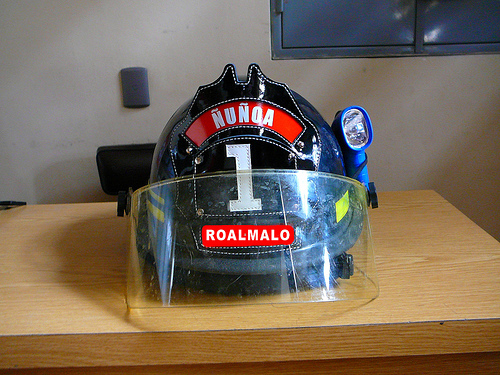helmet: (137, 78, 376, 274)
